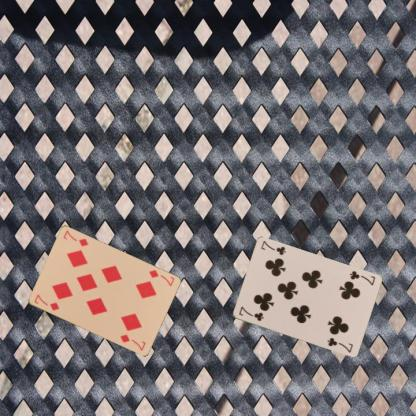7c: (347, 268, 376, 287), (236, 304, 265, 322)
7d: (146, 267, 176, 288), (31, 292, 60, 312)
